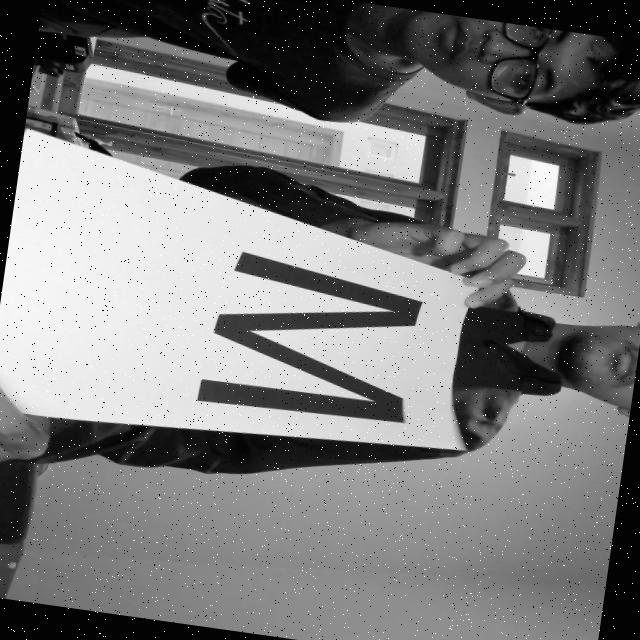m: (163, 240, 440, 442)
